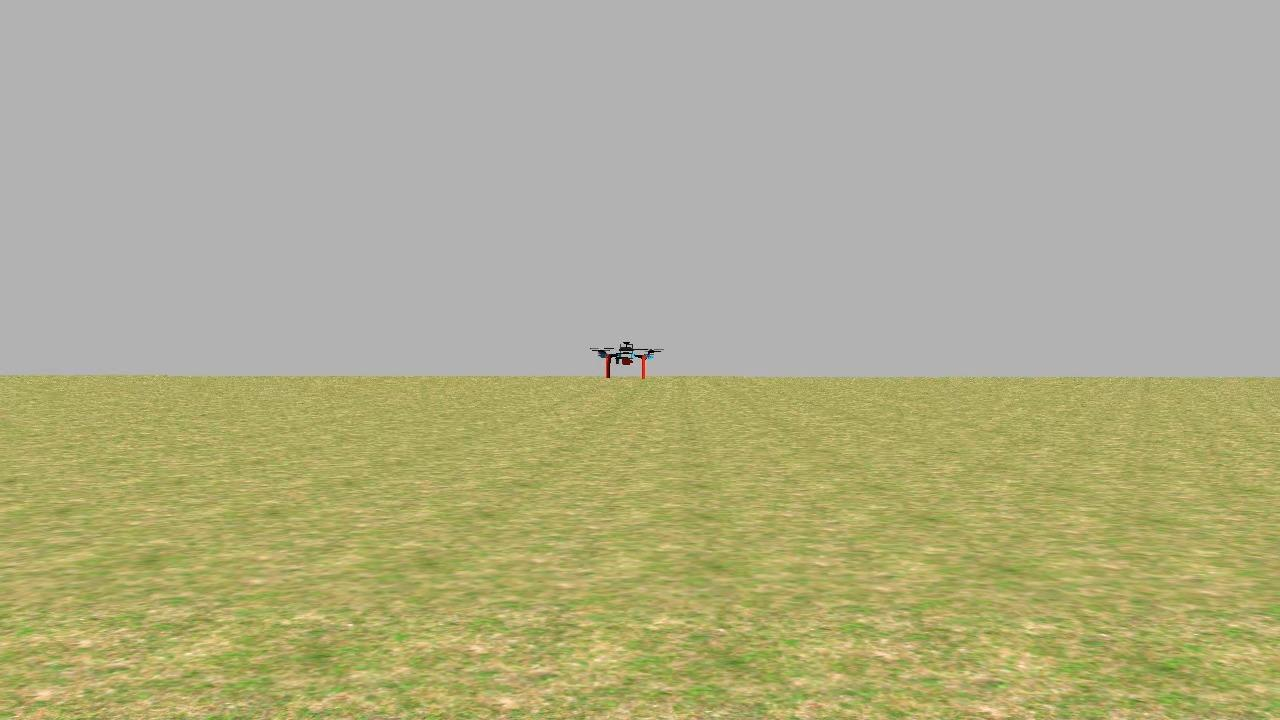UAV: (581, 322, 669, 396)
